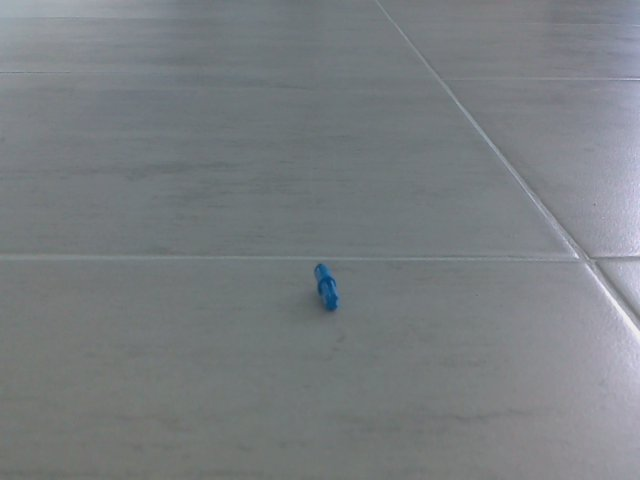Blau: (306, 259, 348, 315)
